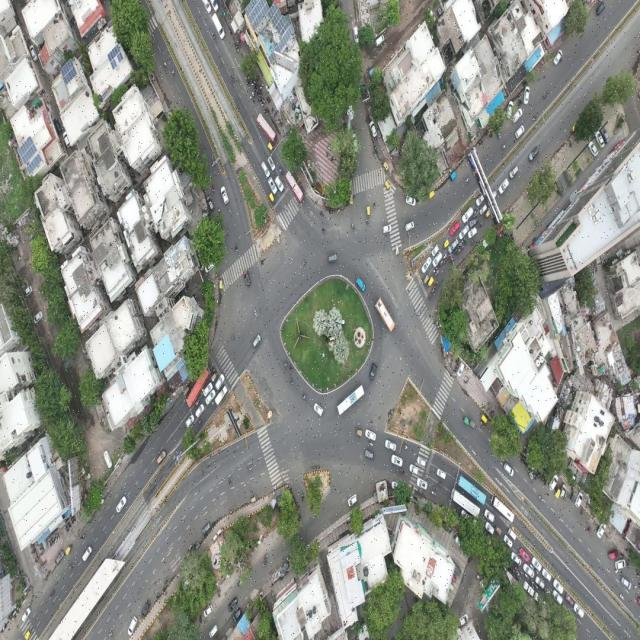3W: (19, 624, 35, 640), (61, 541, 75, 557), (246, 494, 258, 507), (181, 386, 193, 399), (209, 369, 220, 383), (217, 275, 225, 294), (569, 120, 579, 135), (382, 173, 390, 191), (569, 490, 578, 506), (494, 524, 504, 538), (382, 159, 391, 174), (463, 413, 472, 428), (353, 428, 364, 440), (422, 272, 430, 287), (450, 168, 457, 184), (469, 417, 477, 431), (426, 191, 437, 201), (268, 193, 277, 205), (428, 274, 434, 292), (484, 208, 493, 220), (480, 414, 489, 425), (555, 484, 561, 500), (266, 141, 275, 151), (442, 238, 449, 250), (366, 201, 371, 217)
Bus: (182, 361, 214, 410), (446, 483, 483, 520), (454, 468, 489, 506), (375, 295, 403, 339), (333, 383, 368, 417), (488, 495, 516, 526), (283, 167, 305, 205)
Cars: (594, 127, 607, 153), (527, 143, 541, 166), (126, 612, 138, 637), (500, 458, 515, 478), (155, 444, 168, 467), (81, 543, 95, 564), (420, 254, 433, 276), (114, 495, 128, 515), (140, 598, 152, 621), (273, 174, 286, 195), (557, 474, 567, 501), (499, 176, 511, 198), (588, 141, 601, 161), (267, 175, 279, 196), (220, 183, 230, 208), (508, 163, 521, 182), (461, 204, 474, 223), (384, 436, 397, 455), (313, 400, 326, 419), (595, 0, 607, 20), (447, 236, 459, 256), (551, 586, 563, 606), (619, 574, 633, 591), (517, 546, 531, 563), (354, 275, 367, 293), (482, 508, 496, 524), (573, 603, 586, 620), (55, 545, 65, 567), (564, 590, 575, 610), (531, 552, 542, 572), (20, 605, 32, 623), (449, 220, 461, 238), (595, 521, 607, 539), (369, 118, 379, 139), (358, 78, 368, 99), (390, 453, 404, 468), (183, 413, 196, 429), (404, 193, 417, 209), (466, 225, 479, 241), (363, 447, 376, 463), (348, 492, 361, 508), (201, 521, 213, 538), (205, 388, 217, 405), (374, 33, 386, 50), (512, 107, 524, 124), (600, 127, 612, 144), (553, 578, 565, 595), (542, 567, 554, 584), (484, 521, 496, 538), (242, 267, 251, 289), (266, 155, 277, 173), (459, 224, 470, 242), (505, 525, 518, 540), (364, 428, 377, 443), (260, 161, 272, 177), (502, 532, 514, 548), (215, 373, 225, 392), (432, 251, 442, 270), (456, 359, 466, 378), (553, 47, 562, 68), (252, 334, 263, 351), (326, 251, 339, 265), (523, 564, 536, 578), (195, 401, 205, 419), (204, 381, 214, 399), (404, 219, 416, 234), (202, 603, 214, 618), (351, 133, 359, 155), (227, 596, 238, 612), (524, 83, 531, 108), (370, 358, 377, 383), (207, 194, 216, 213), (575, 491, 584, 510), (548, 474, 558, 491), (615, 558, 627, 572), (201, 0, 212, 15), (515, 125, 526, 140), (510, 550, 521, 565), (479, 203, 489, 219), (431, 241, 441, 257), (209, 623, 219, 639), (468, 215, 480, 228), (460, 510, 472, 523), (435, 468, 448, 480), (210, 0, 221, 14), (415, 456, 427, 468), (409, 463, 421, 475), (416, 479, 428, 491), (608, 548, 619, 561), (535, 577, 546, 590), (353, 25, 360, 45), (475, 193, 485, 207), (507, 98, 513, 121), (233, 608, 242, 623), (381, 223, 392, 235)
LCV: (211, 11, 226, 41), (520, 579, 537, 598), (217, 386, 229, 408)
M2W: (225, 474, 235, 487), (298, 491, 307, 505), (374, 146, 383, 158), (296, 515, 305, 527), (299, 256, 307, 268), (531, 111, 539, 123), (287, 362, 294, 375), (253, 307, 259, 322), (286, 378, 295, 388), (49, 588, 56, 600), (67, 560, 74, 572), (230, 72, 236, 86), (349, 219, 356, 231), (541, 89, 548, 101), (246, 465, 254, 475), (162, 58, 168, 71), (211, 29, 217, 42), (364, 215, 370, 228), (372, 198, 378, 211), (79, 530, 86, 541), (283, 354, 288, 369), (217, 206, 223, 218), (212, 157, 218, 169), (171, 66, 177, 78), (256, 95, 265, 103), (321, 225, 327, 237), (463, 176, 471, 185), (477, 138, 483, 150), (401, 442, 409, 451), (234, 241, 239, 255), (537, 492, 544, 502), (619, 592, 626, 602), (432, 483, 439, 493), (301, 394, 308, 404), (262, 552, 269, 562), (31, 546, 37, 557), (210, 366, 216, 377), (282, 203, 288, 214), (524, 570, 530, 581), (163, 576, 169, 587), (50, 535, 55, 548), (438, 481, 446, 489), (500, 142, 507, 151), (614, 569, 623, 576), (35, 554, 40, 566), (230, 332, 236, 342), (370, 149, 376, 159), (530, 577, 536, 587), (227, 508, 235, 515), (261, 562, 269, 569), (278, 165, 283, 176), (199, 387, 205, 396), (273, 110, 279, 119), (478, 219, 484, 228), (443, 257, 449, 266), (529, 562, 535, 571), (519, 569, 525, 578), (195, 398, 200, 408), (246, 77, 251, 87), (263, 104, 268, 114), (434, 268, 439, 278), (586, 524, 591, 534), (318, 211, 325, 218), (623, 546, 630, 553), (259, 82, 265, 90), (266, 94, 270, 106), (267, 98, 273, 106), (428, 291, 434, 299), (534, 568, 540, 576), (431, 489, 437, 497), (56, 533, 61, 542), (497, 131, 502, 140), (489, 131, 494, 140), (470, 239, 475, 248), (433, 265, 438, 274), (48, 538, 52, 549), (197, 419, 203, 426), (212, 182, 215, 196), (250, 79, 256, 86), (276, 117, 282, 124), (452, 247, 459, 253), (438, 261, 444, 268), (479, 420, 485, 427), (619, 552, 625, 559), (53, 534, 57, 544), (255, 85, 259, 95), (262, 97, 266, 107), (269, 107, 274, 115), (474, 206, 478, 216), (464, 238, 469, 246), (541, 475, 545, 485), (544, 478, 548, 488), (580, 506, 584, 516), (369, 420, 373, 430), (188, 543, 192, 553), (250, 93, 256, 99), (520, 455, 524, 464), (399, 468, 405, 474), (265, 110, 270, 117), (449, 257, 454, 264), (534, 583, 539, 590), (514, 561, 519, 568), (424, 473, 429, 480), (368, 441, 373, 448), (236, 44, 239, 55), (523, 456, 526, 467), (627, 558, 630, 569), (516, 570, 520, 578), (279, 123, 285, 128), (443, 252, 447, 259), (533, 474, 537, 481), (526, 460, 529, 469), (531, 466, 534, 475), (538, 470, 541, 479), (253, 84, 257, 90), (460, 237, 466, 241), (459, 245, 465, 249), (435, 281, 439, 287), (456, 250, 461, 254), (437, 322, 439, 331), (457, 244, 462, 246)
